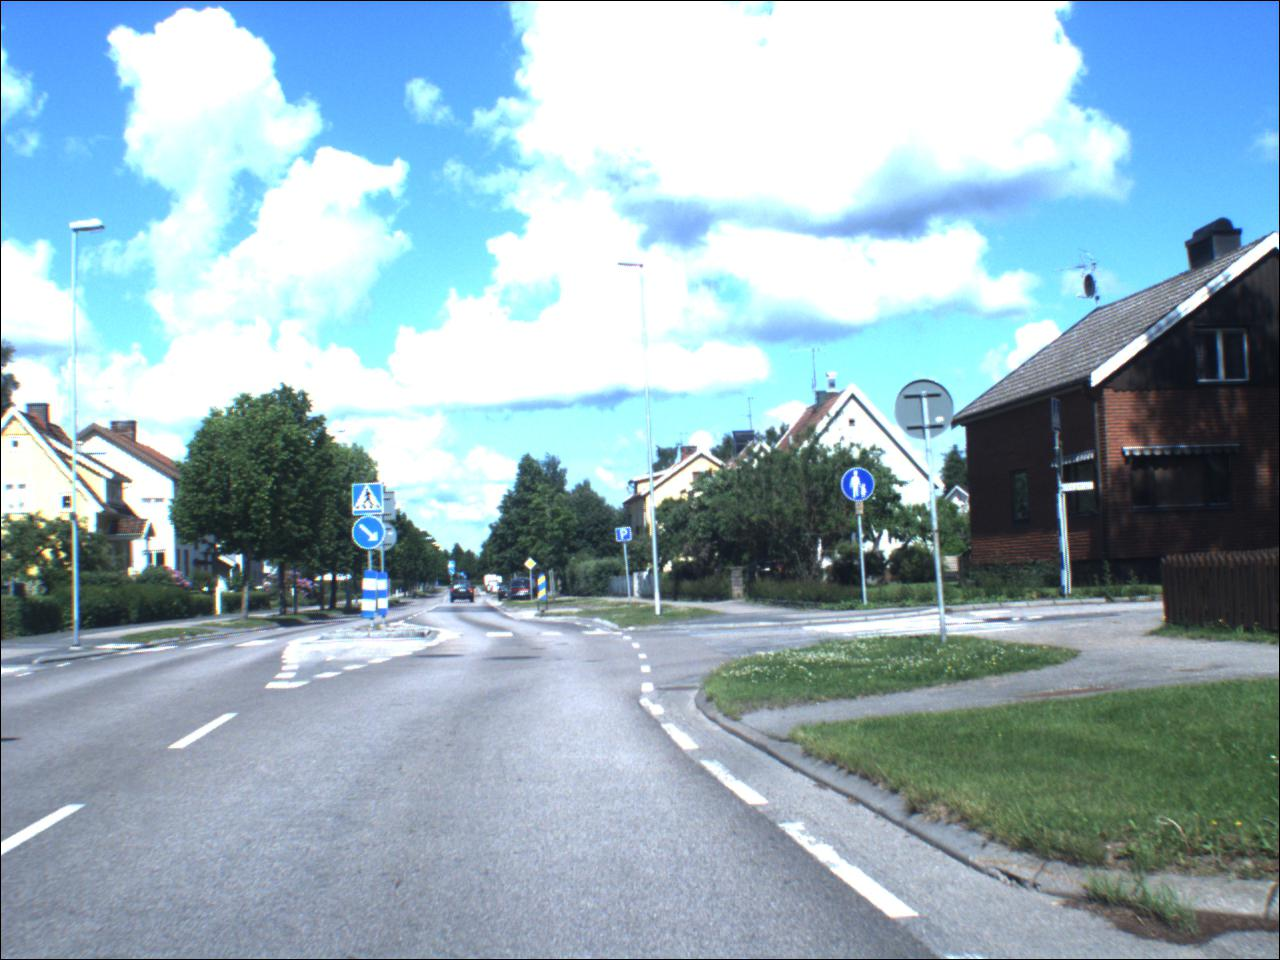PASS_RIGHT_SIDE: (354, 519, 388, 553), (449, 570, 458, 578)
PEDESTRIAN_CROSSING: (353, 483, 384, 516), (450, 562, 458, 571)
PRIORITY_ROAD: (526, 560, 540, 573)
